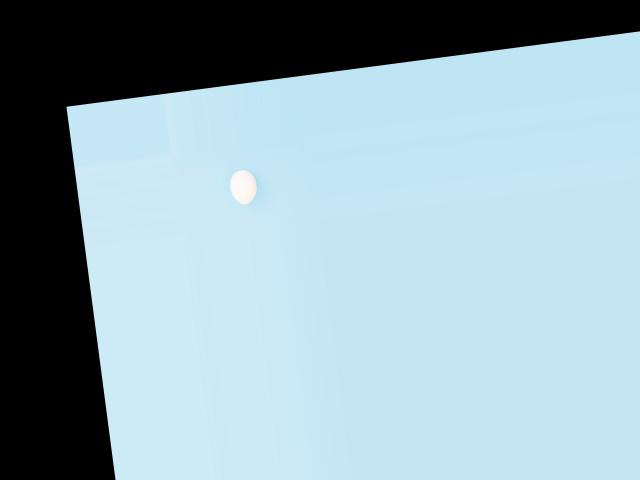egg: (228, 167, 258, 206)
